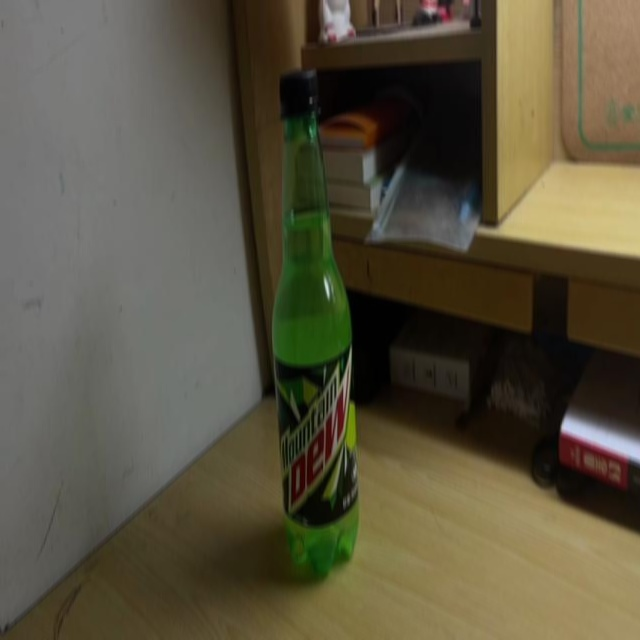Mountain-Dew: (272, 67, 356, 579)
